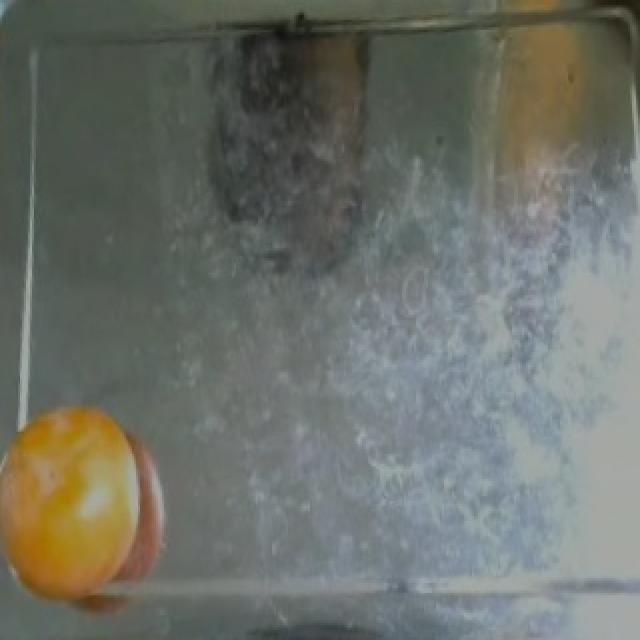Fruit: (452, 3, 638, 243), (0, 397, 148, 625)
